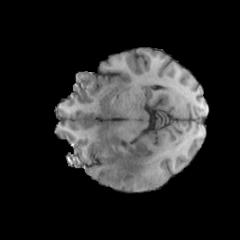glioma: (90, 146, 160, 190)
